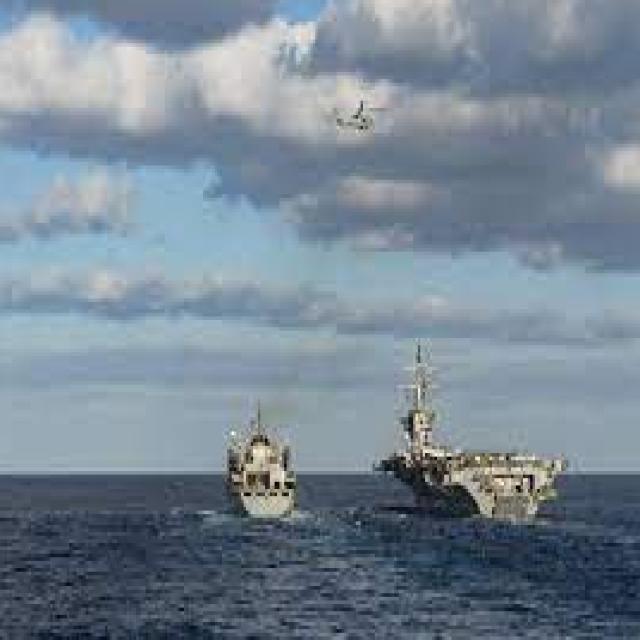navalvessels: (386, 347, 574, 516), (227, 396, 304, 535)
